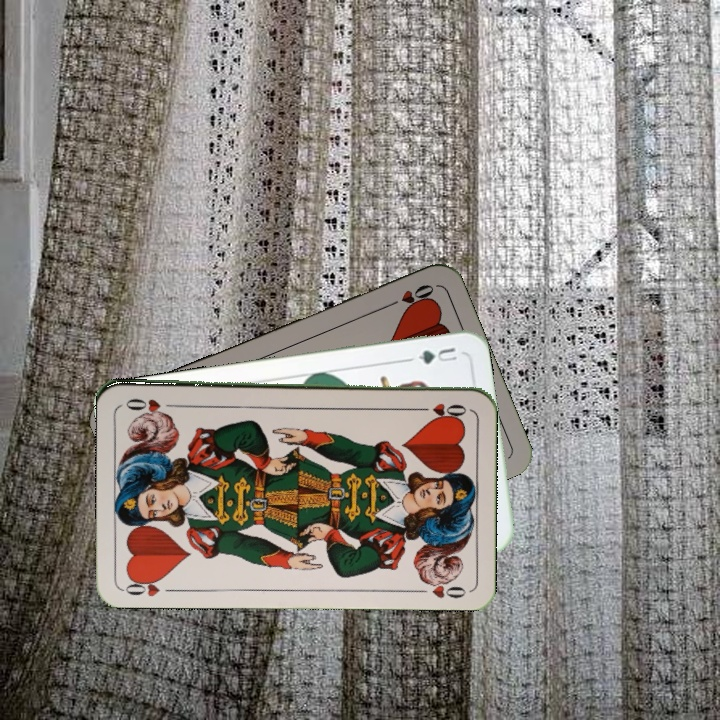GU: (414, 343, 460, 367)
HO: (381, 280, 437, 311), (120, 572, 179, 600), (411, 399, 469, 416)
